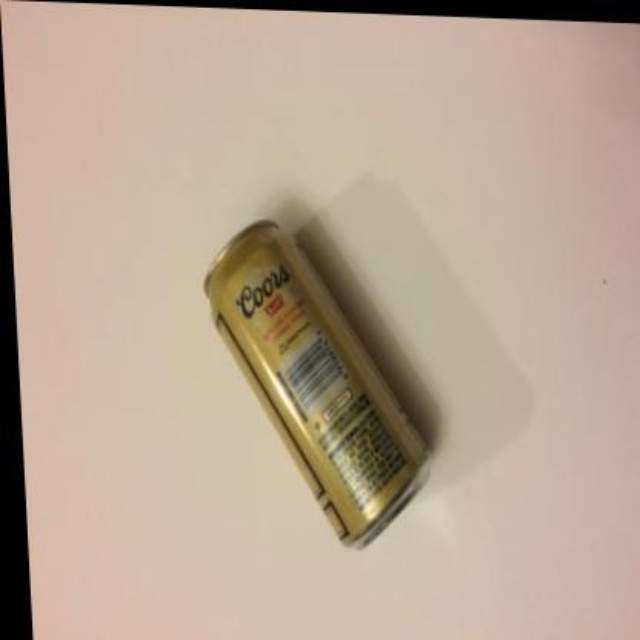trash: (205, 222, 426, 546)
